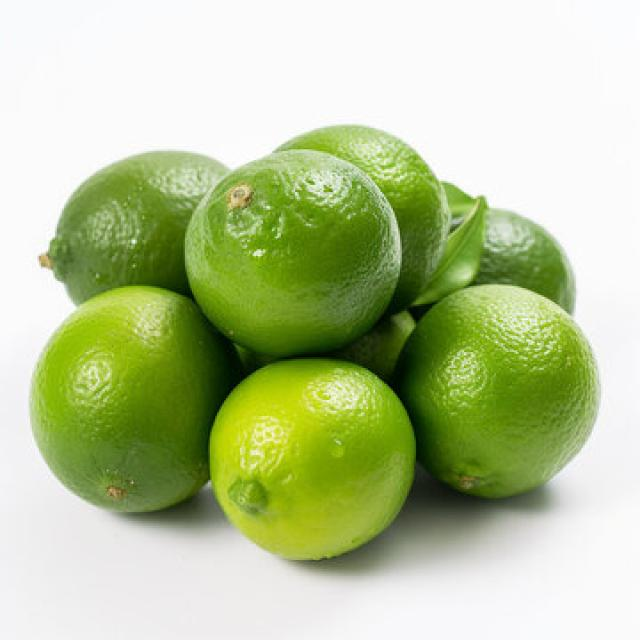Lemon: (27, 282, 233, 514), (183, 147, 402, 356), (395, 281, 601, 498), (208, 356, 416, 560), (270, 122, 450, 308), (37, 147, 231, 306)
